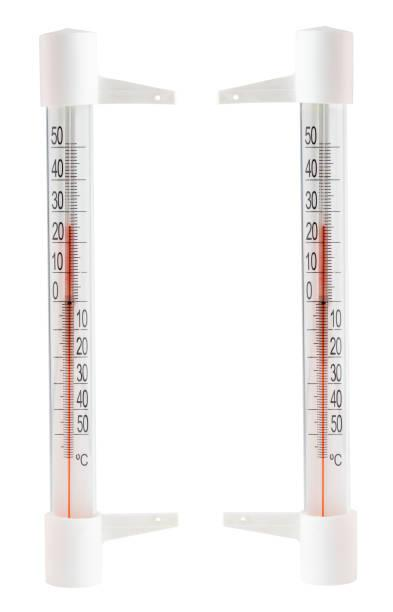Test tube: (24, 23, 144, 541), (281, 32, 351, 529)
